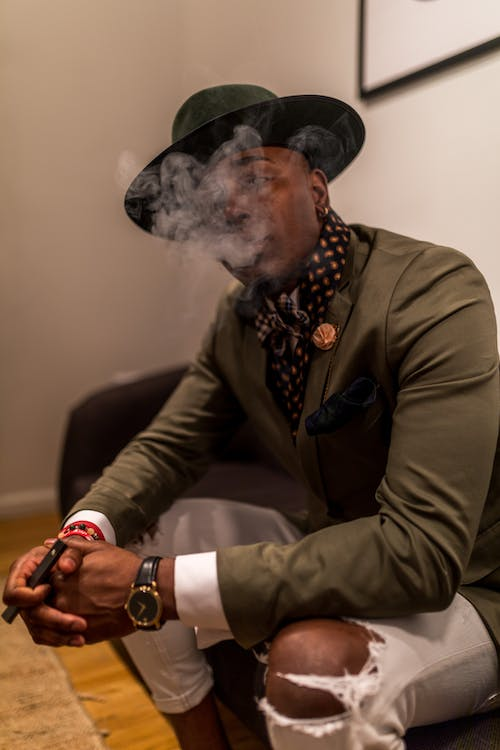cigarette: (0, 533, 68, 626)
